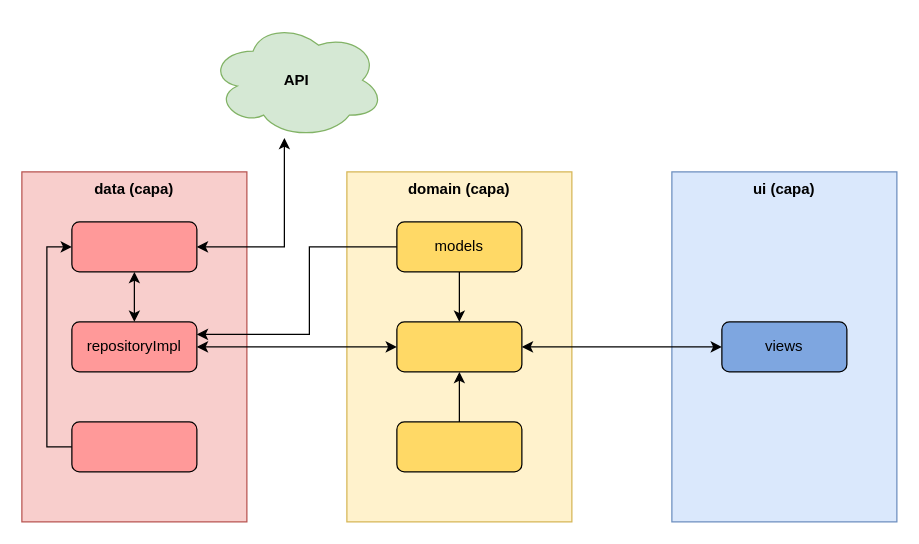
Image size: 919x544. Some labels were removed from this diagram. The shapes that lost their labels are listed below. From the top down, each one's centre as x and y in pixels, then its label:
At (134,246): "service".
At (459,346): "useCase".
At (134,446): "retrofit".
At (459,446): "repository".
